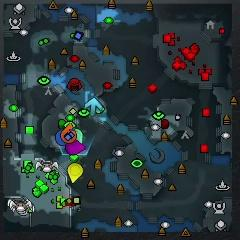p1: (56, 130, 67, 146)
p2: (72, 129, 83, 144)
p3: (65, 141, 85, 155)
p4: (67, 163, 83, 183)
p5: (61, 123, 76, 143)
x3: (84, 98, 102, 117)
